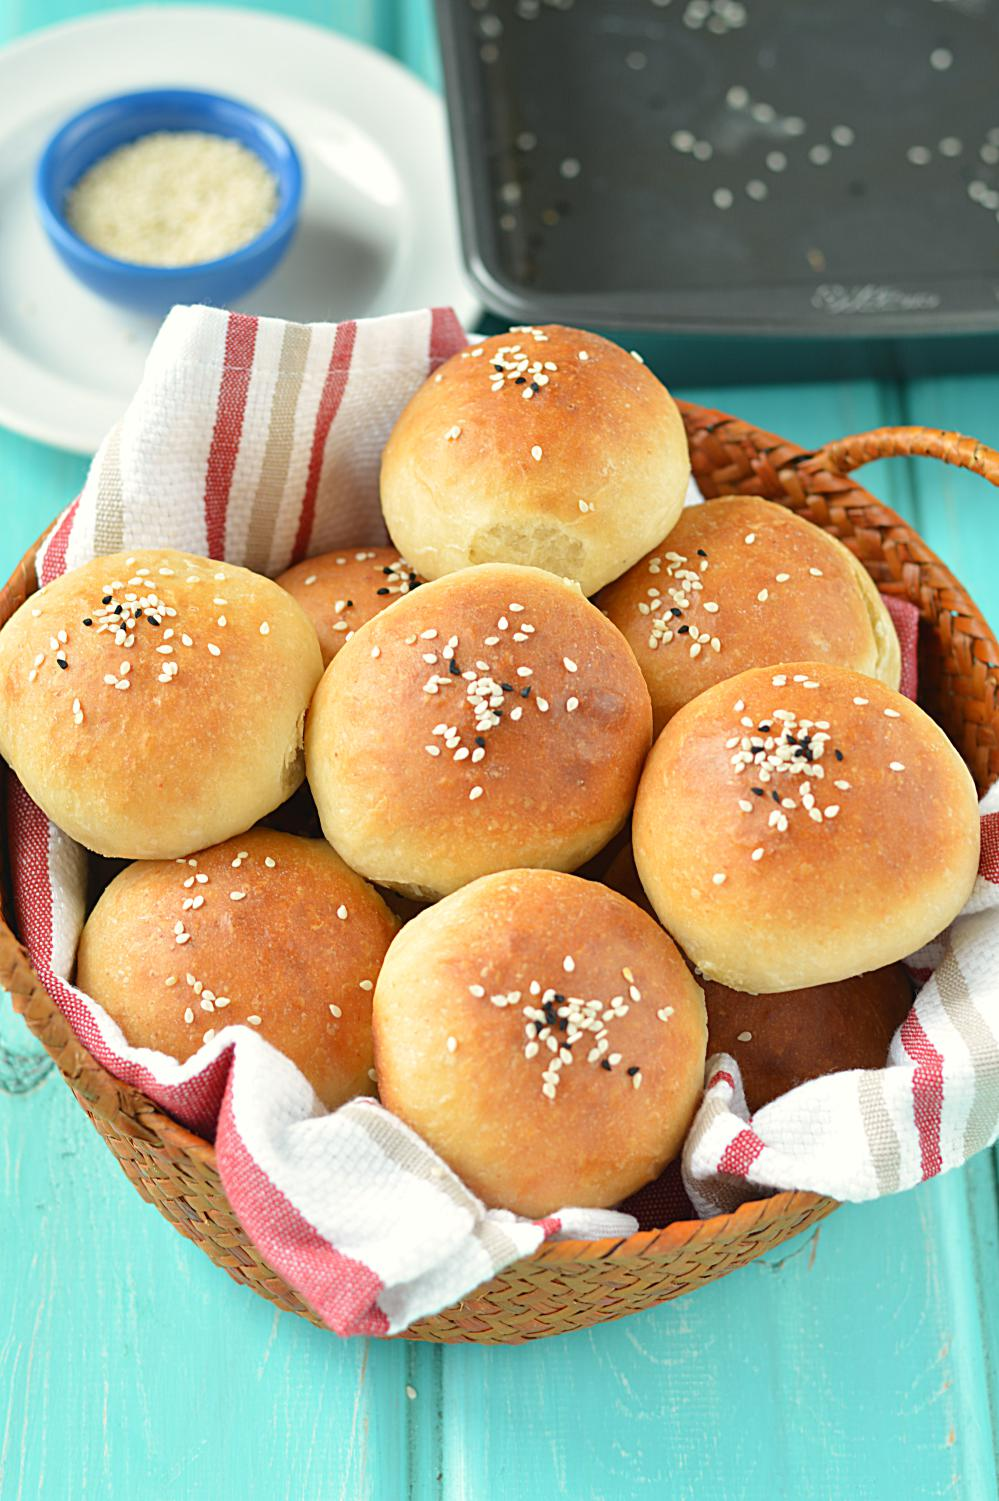hamburger_buns: (60, 376, 915, 1189)
